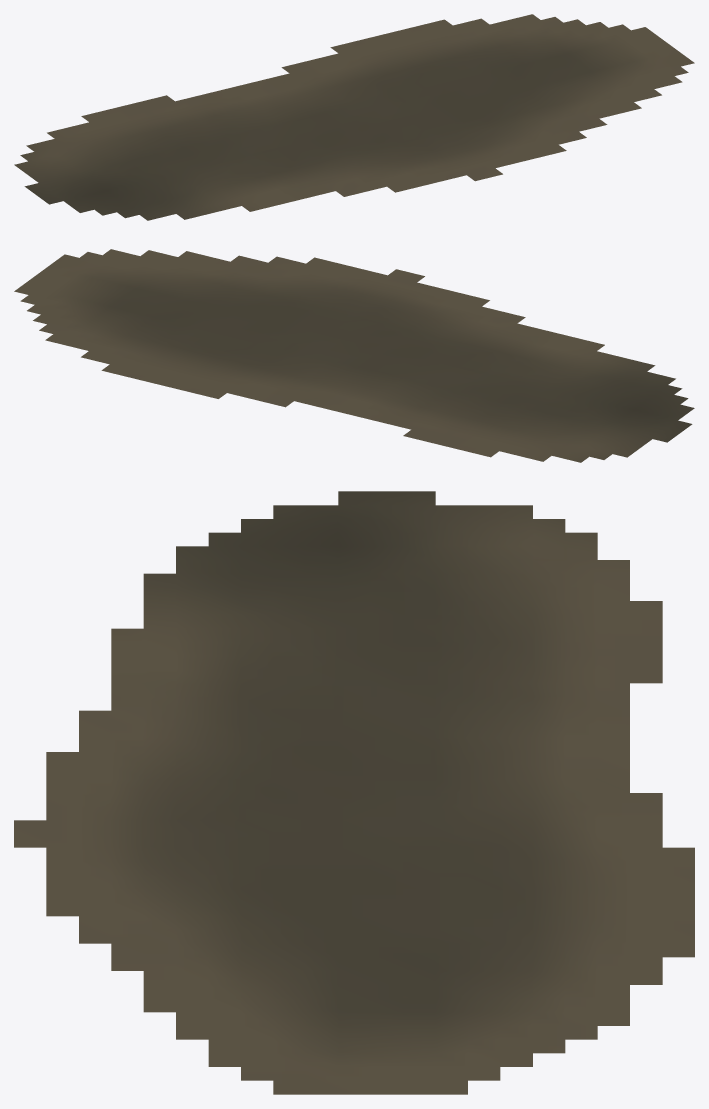
File: ISL2_MudPuddle_1.fbx
The picture shows the model from 3 angles, top to bottom: view 1: azimuth 30°, elevation 25°; view 2: azimuth 150°, elevation 25°; view 3: azimuth 270°, elevation 25°; orthographic projection. The views are drawn at different scales.
Visible parts, largest first — view 1: ISL2_MudPuddle_1.001; view 2: ISL2_MudPuddle_1.001; view 3: ISL2_MudPuddle_1.001.
Part boxes in pixels (<box>): ISL2_MudPuddle_1.001: <box>14,14,694,220</box>; ISL2_MudPuddle_1.001: <box>14,249,694,462</box>; ISL2_MudPuddle_1.001: <box>14,491,694,1094</box>.
Bounding box in the file's own units: 15.4 × 0 × 7.35.
